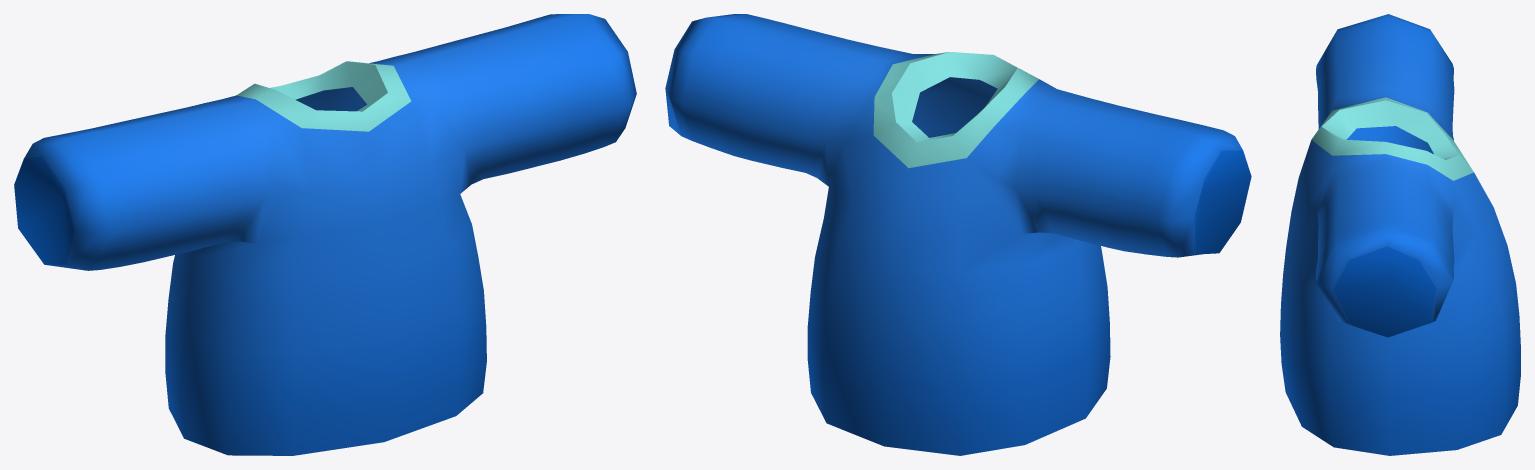
The model's file is Top_8.fbx.
3 views of the same model, side by side, from view 1: azimuth 30°, elevation 25°; view 2: azimuth 150°, elevation 25°; view 3: azimuth 270°, elevation 25° (orthographic). The views are drawn at different scales.
Parts seen in each view (by area): view 1: Top_8; view 2: Top_8; view 3: Top_8.
Boxes of the visible parts, box(x1,y1,x2,y2) form: Top_8: box(14, 14, 636, 455); Top_8: box(665, 14, 1251, 455); Top_8: box(1280, 14, 1520, 455).
Bounding box in the file's own units: 83.07 × 47.57 × 36.49.
